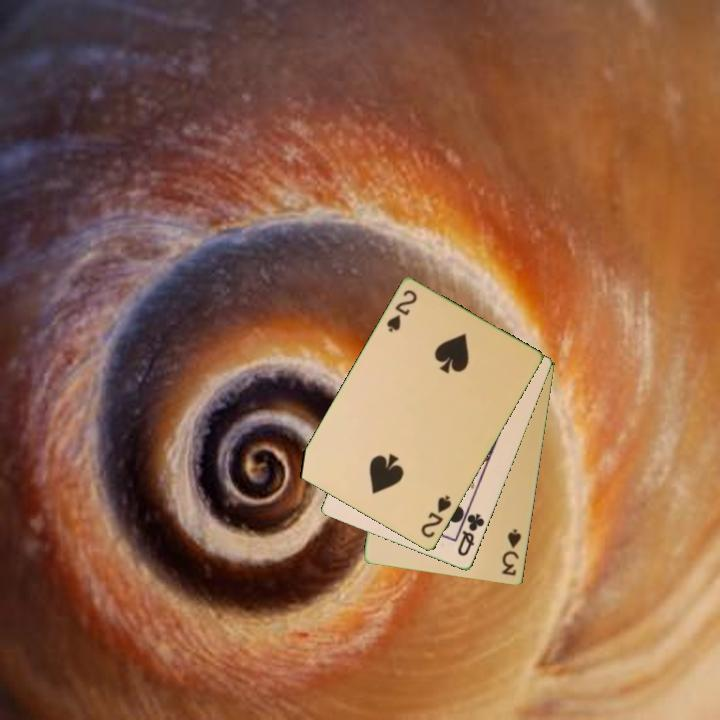2s: (417, 492, 455, 541), (383, 286, 420, 336)
3s: (498, 526, 524, 579)
Qc: (454, 510, 488, 559)
